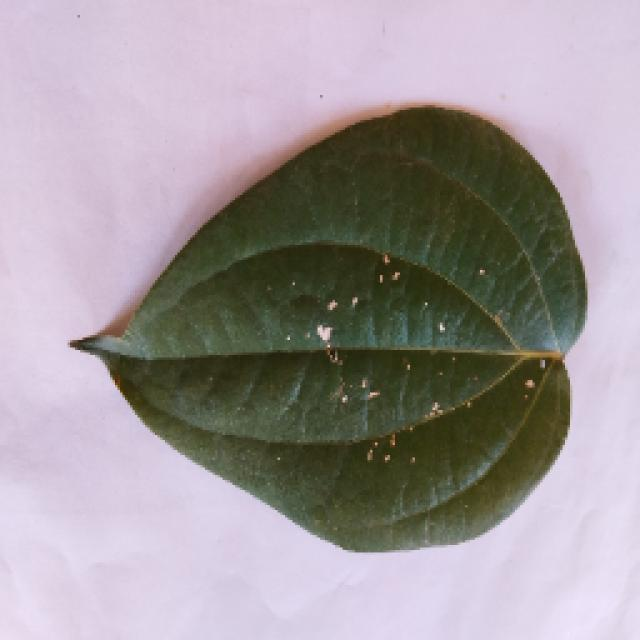pollu-disease: (68, 105, 582, 553)
